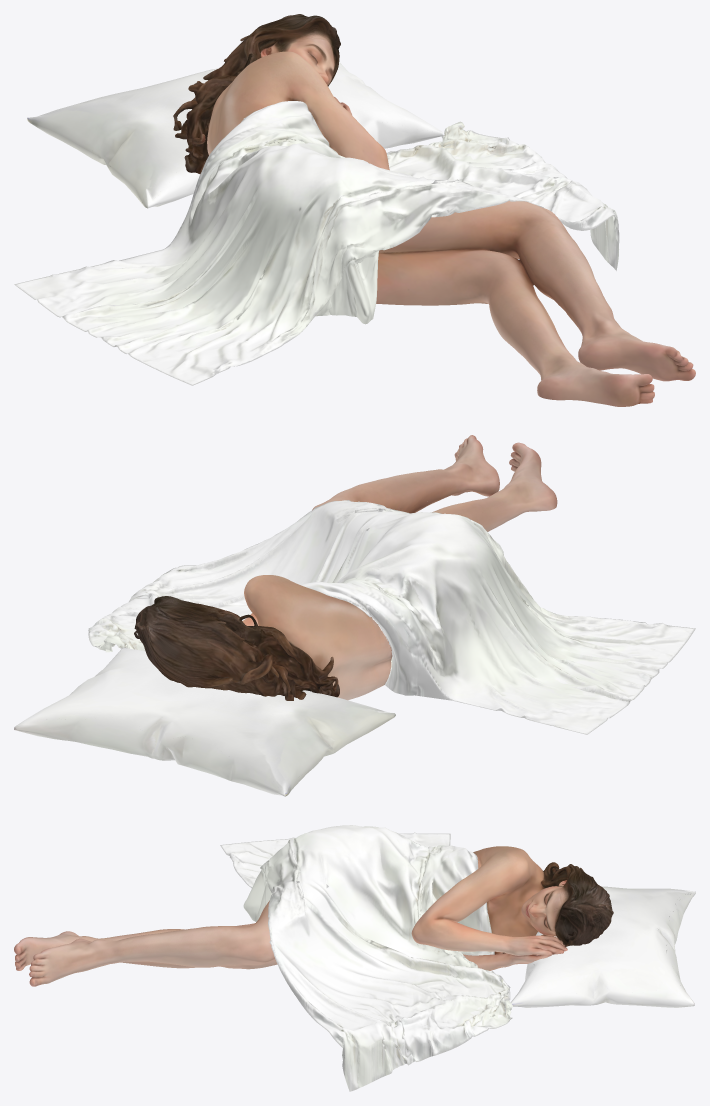
Rendered from ciksegulbezmatraca.glb.
The picture shows the model from 3 angles, top to bottom: view 1: azimuth 30°, elevation 25°; view 2: azimuth 150°, elevation 25°; view 3: azimuth 270°, elevation 25°; orthographic projection. The views are drawn at different scales.
Visible parts, largest first — view 1: Mesh1_Blengket_0, Mesh1_Sleeping_Woman_V12_modddif_material_0_0, Mesh1_Pillow_0; view 2: Mesh1_Blengket_0, Mesh1_Sleeping_Woman_V12_modddif_material_0_0, Mesh1_Pillow_0; view 3: Mesh1_Blengket_0, Mesh1_Sleeping_Woman_V12_modddif_material_0_0, Mesh1_Pillow_0.
Part boxes in pixels (<box>): Mesh1_Blengket_0: <box>14,101,619,385</box>; Mesh1_Sleeping_Woman_V12_modddif_material_0_0: <box>173,14,695,406</box>; Mesh1_Pillow_0: <box>27,62,443,208</box>; Mesh1_Blengket_0: <box>88,500,695,734</box>; Mesh1_Sleeping_Woman_V12_modddif_material_0_0: <box>134,435,557,700</box>; Mesh1_Pillow_0: <box>14,647,395,796</box>; Mesh1_Blengket_0: <box>220,825,512,1091</box>; Mesh1_Sleeping_Woman_V12_modddif_material_0_0: <box>14,846,613,986</box>; Mesh1_Pillow_0: <box>511,886,695,1007</box>.
Bounding box in the file's own units: 103 × 35.96 × 146.
Materials: 3 (3 with a texture image).
